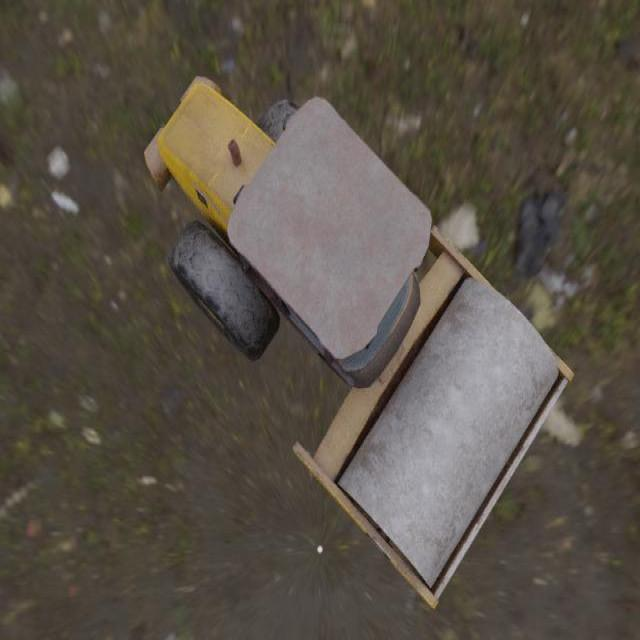Roller: (143, 75, 574, 608)
